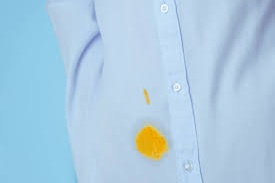mustard: (133, 130, 165, 158), (142, 89, 151, 105)
